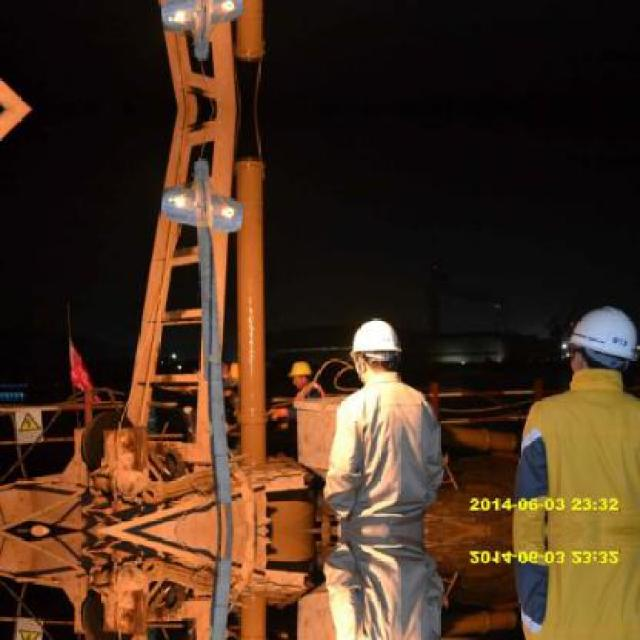helmet: (564, 303, 636, 377), (352, 312, 402, 380), (284, 358, 316, 390)
